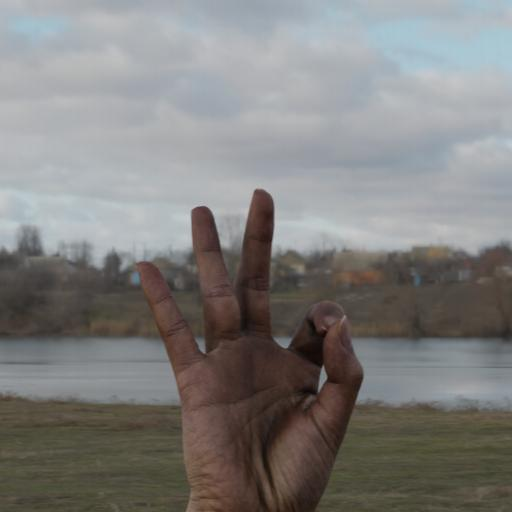F: (125, 142, 406, 480)
